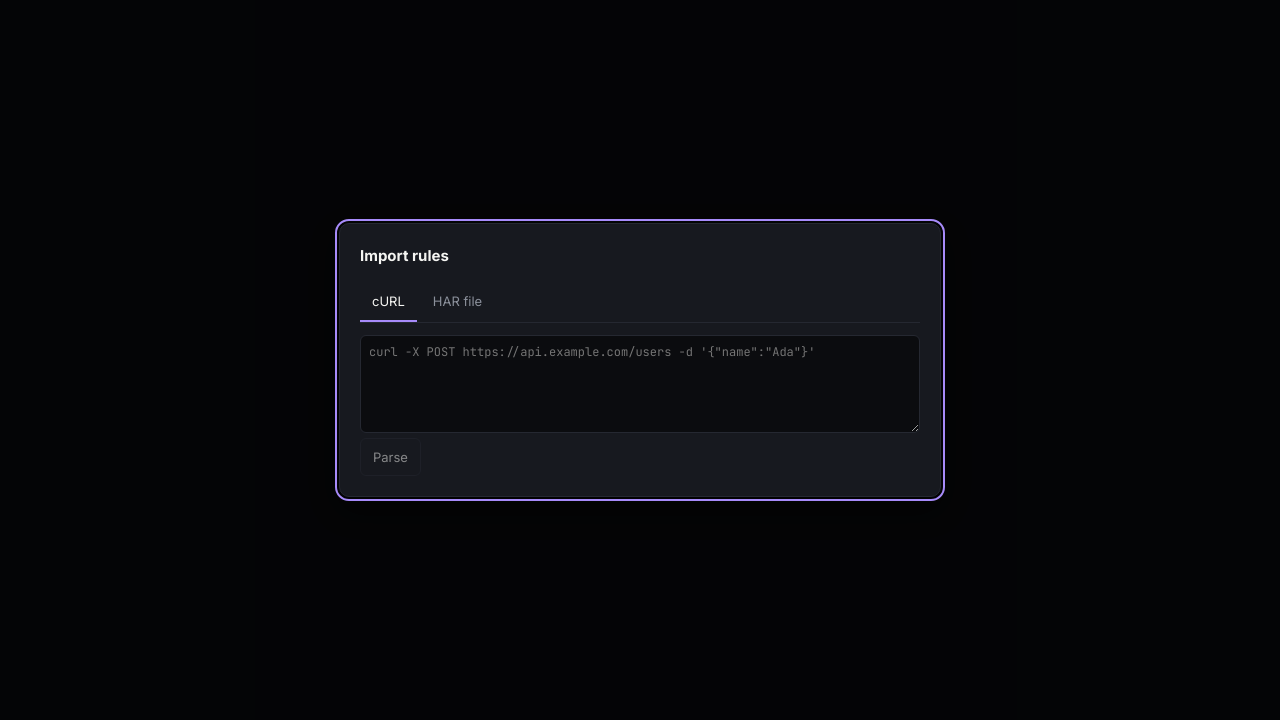
Test: ImportRulesModal — cURL (plan 08) › reports a parse error instead of previewing
Replace the text in the text box with "curl -X GET -H 'a: b'" at (640, 384), box [360, 334, 920, 432]
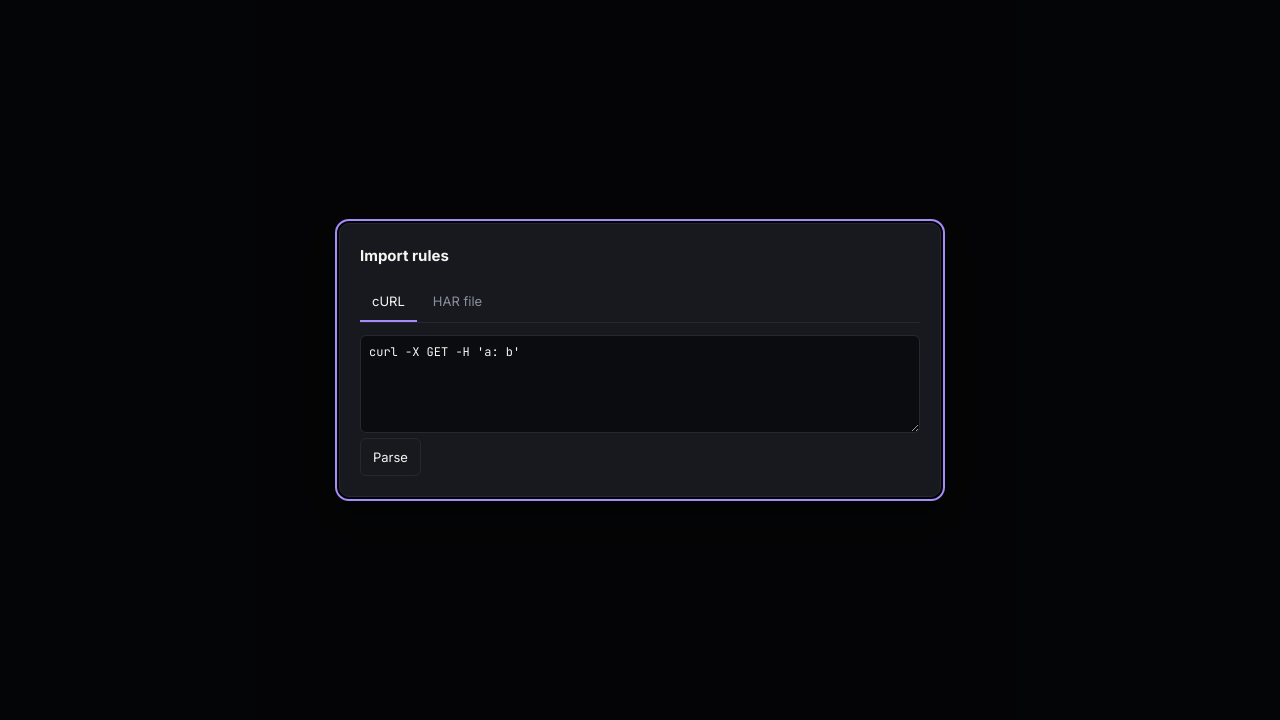
Click the button "Parse" at (390, 457), box [360, 438, 421, 476]
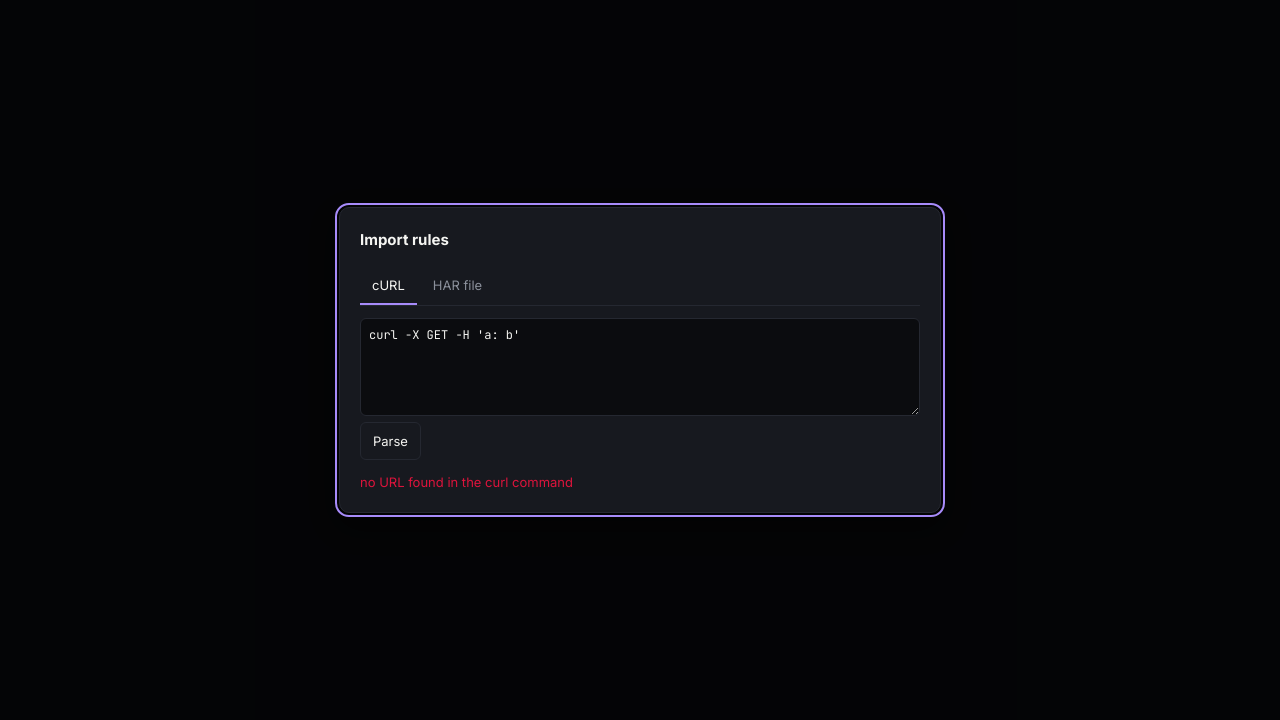
Now the text "no URL found in the curl command" is shown, box [360, 474, 573, 490]
